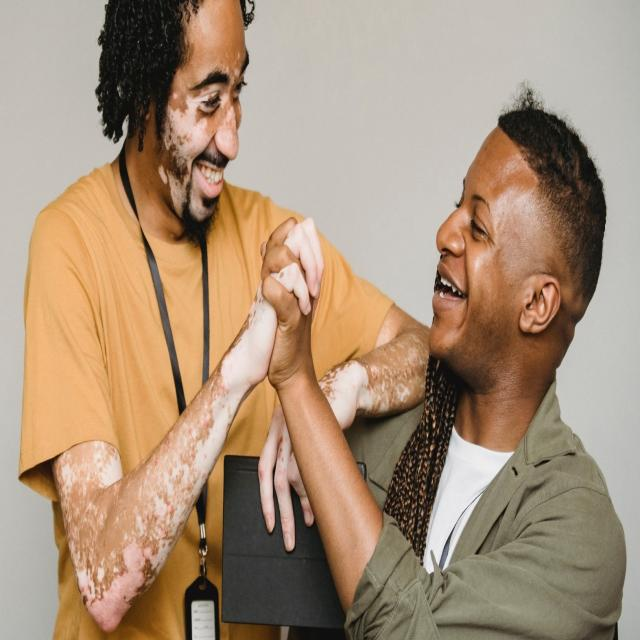vitiligo: (60, 310, 260, 631), (159, 33, 247, 242), (319, 300, 431, 428)
